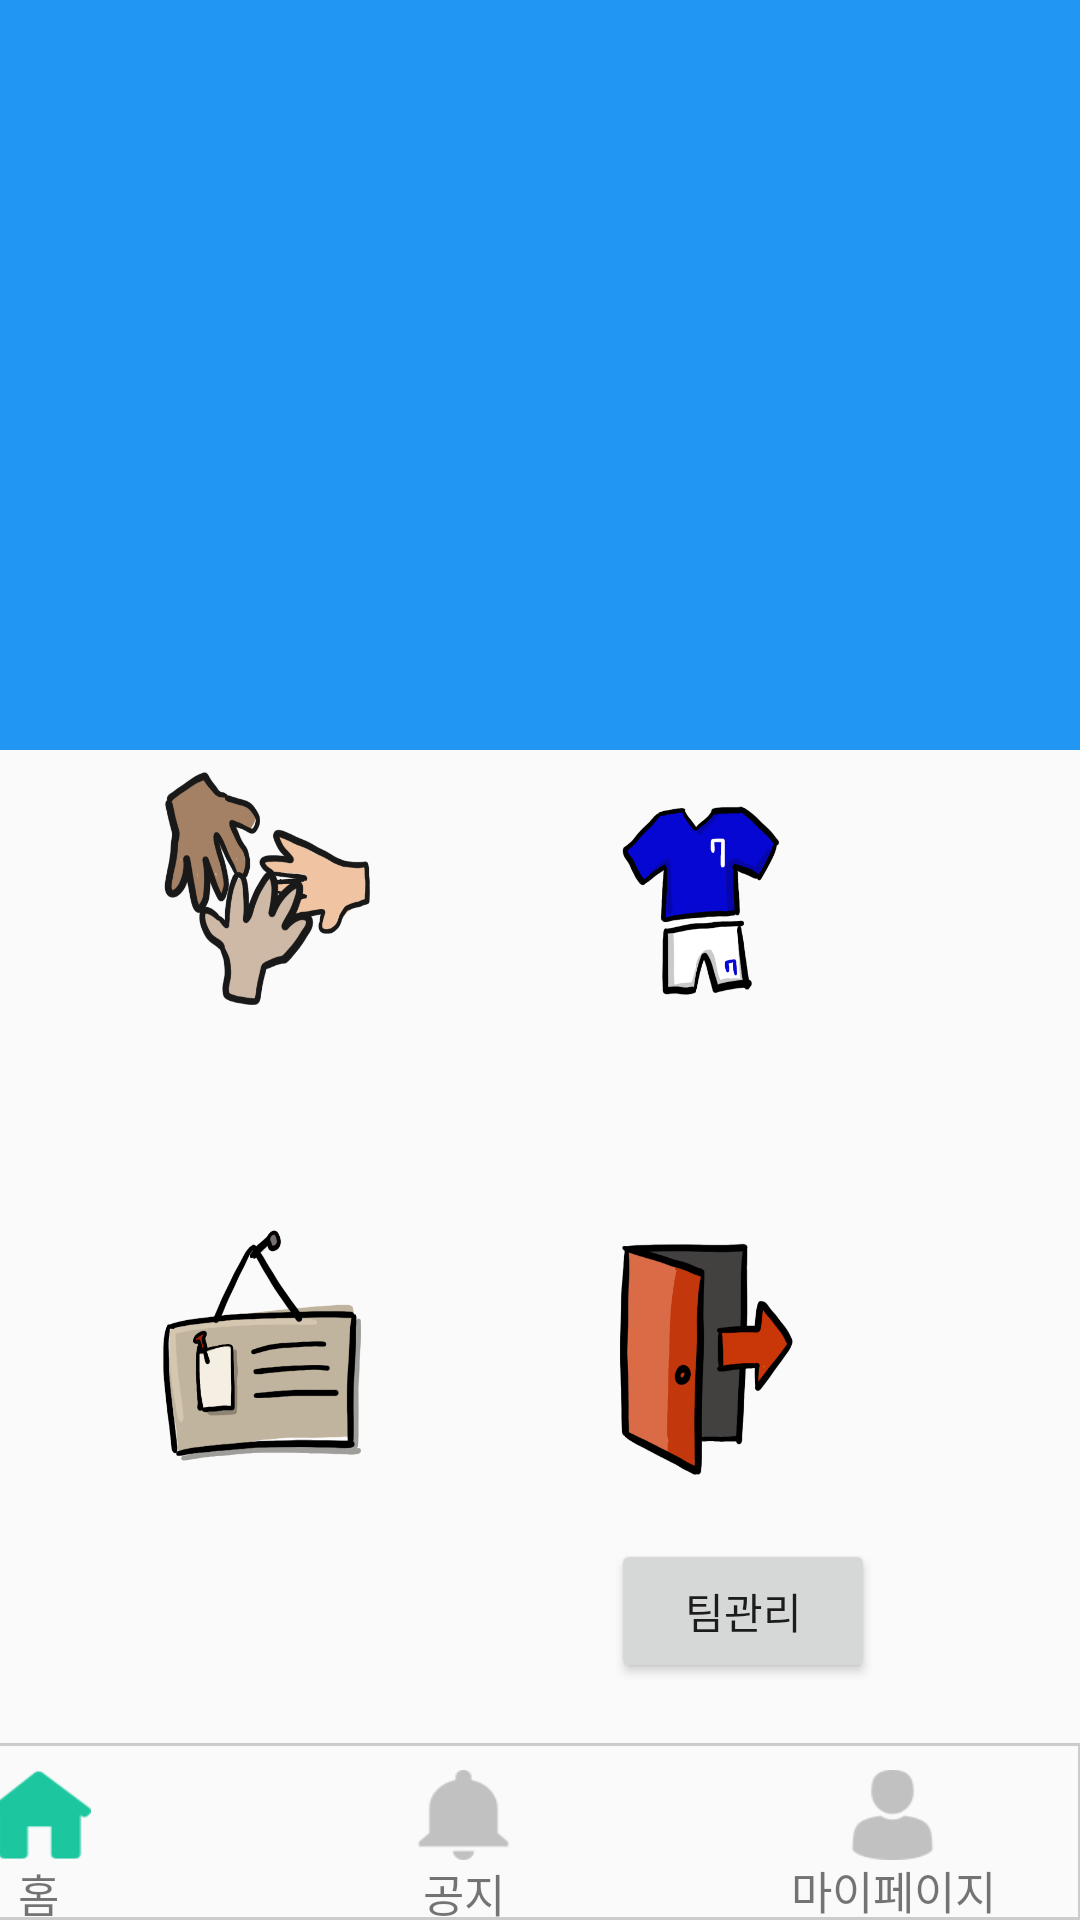

Icon click points for this 1080x1920 phone screenshot, format (x,y):
board: (262,1345)
create team: (267,888)
myteam: (700,900)
